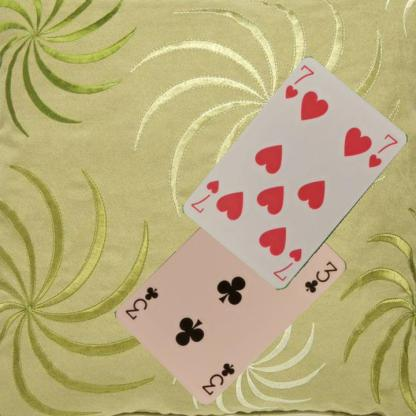3c: (199, 359, 236, 397)
7h: (282, 62, 315, 100), (270, 246, 303, 283)
